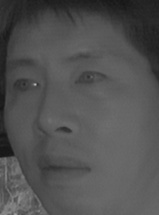eye: (73, 64, 111, 92), (9, 74, 44, 98)
mouth: (35, 150, 94, 187)
